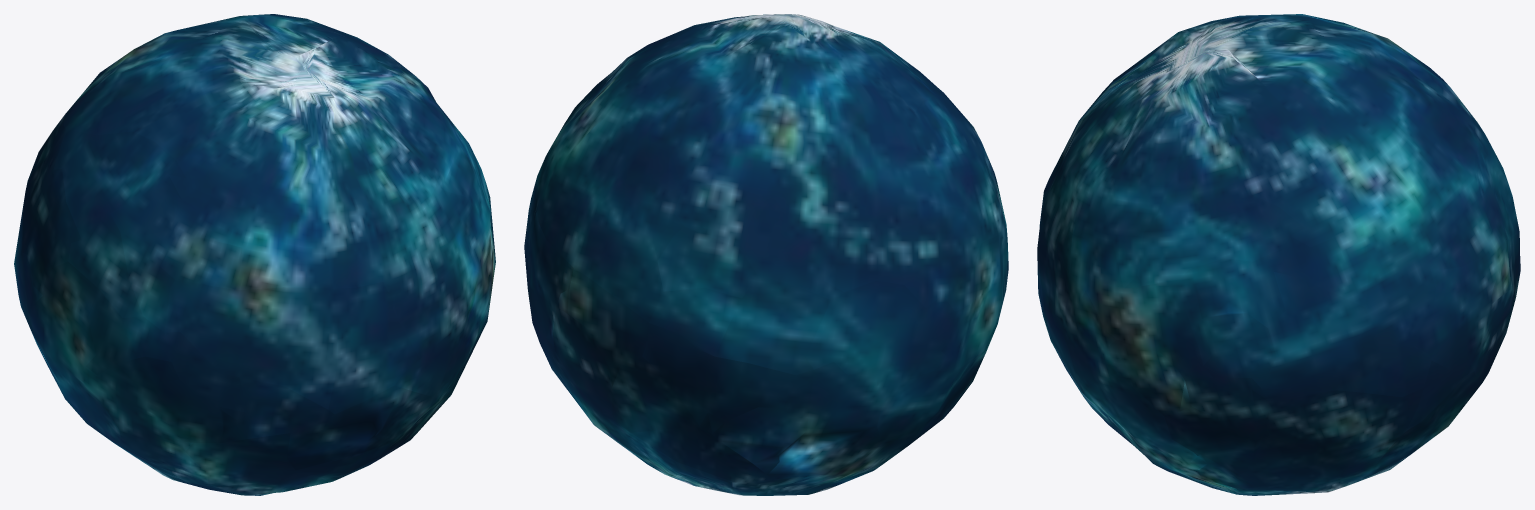
Rendered from planet_6-lod.glb.
3 renders of one model, left to right at view 1: azimuth 30°, elevation 25°; view 2: azimuth 150°, elevation 25°; view 3: azimuth 270°, elevation 25°, orthographic.
Visible parts, largest first — view 1: Mesh_0.001; view 2: Mesh_0.001; view 3: Mesh_0.001.
Boxes of the visible parts, x1=… form: Mesh_0.001: x1=14, y1=14, x2=495, y2=495; Mesh_0.001: x1=524, y1=14, x2=1008, y2=495; Mesh_0.001: x1=1037, y1=14, x2=1520, y2=495.
Size of the model in its own units: 1.9 by 1.9 by 1.9.
1 material, 1 textured.
